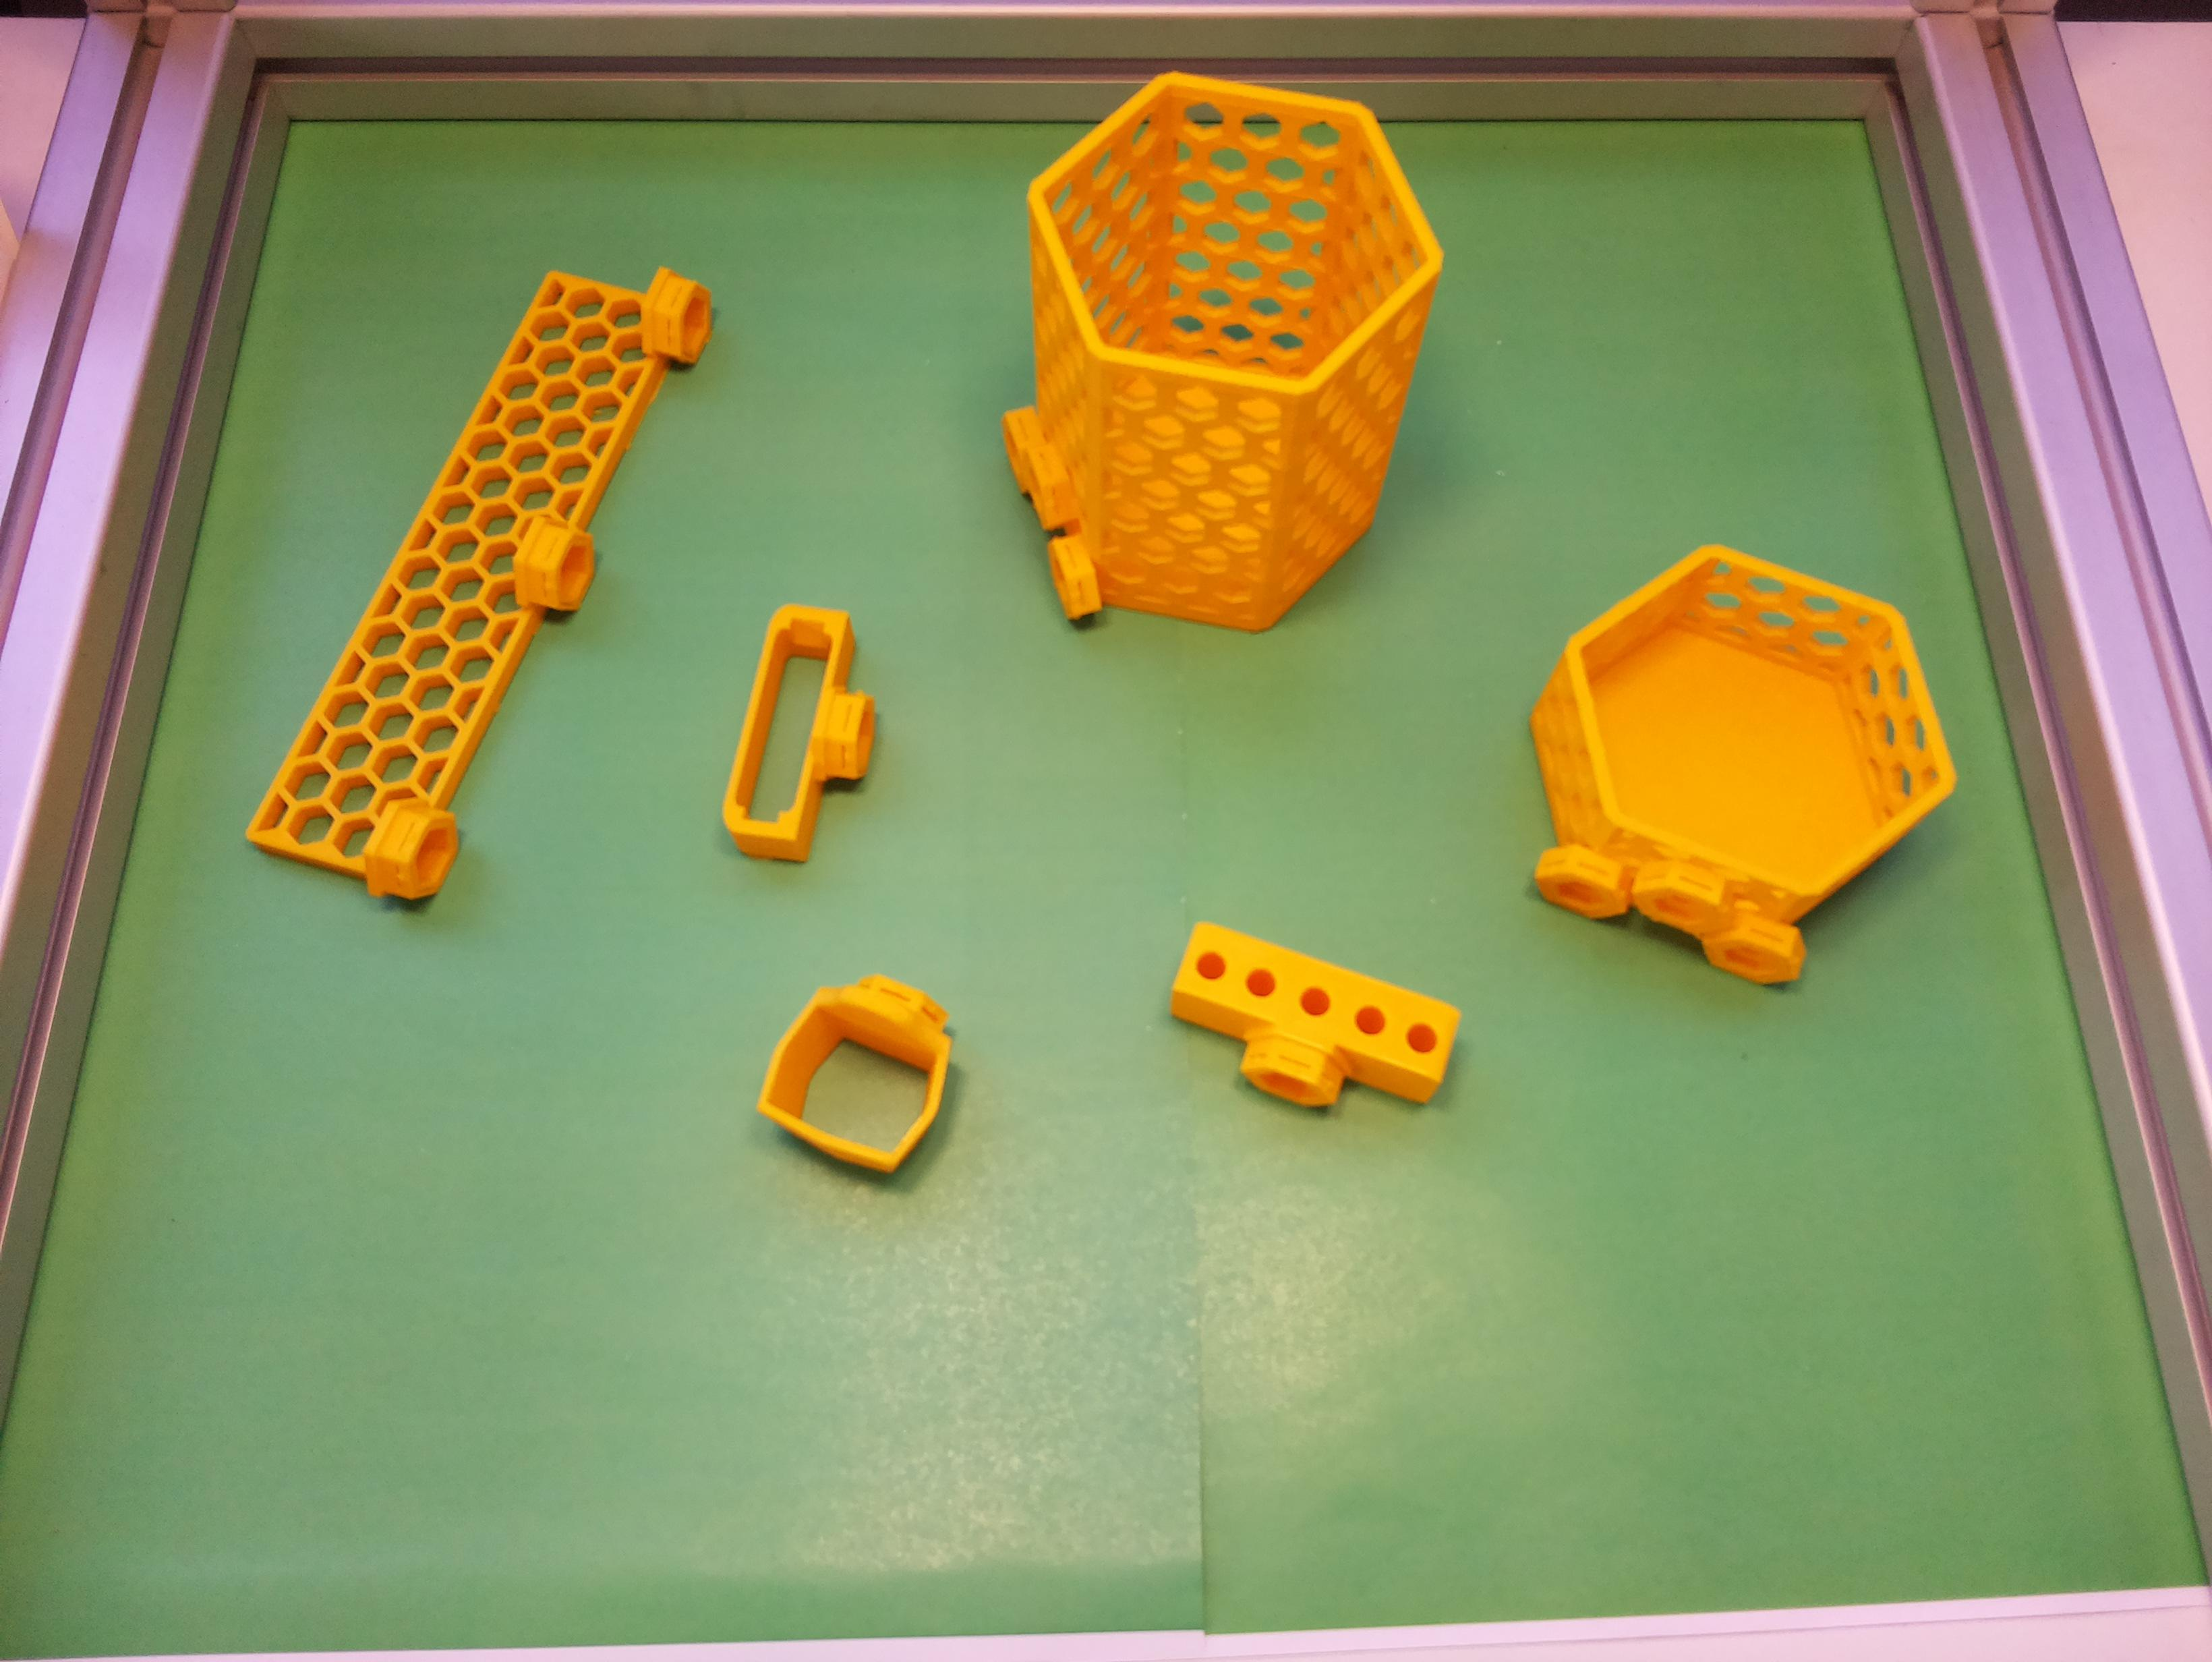bit_holder: (1151, 918, 1465, 1145)
bottle_holder: (1474, 506, 2002, 1021)
cup_holder: (985, 59, 1458, 653)
cutter_holder: (714, 595, 897, 875)
scissor_holder: (744, 943, 986, 1191)
tool_holder: (243, 213, 732, 927)
